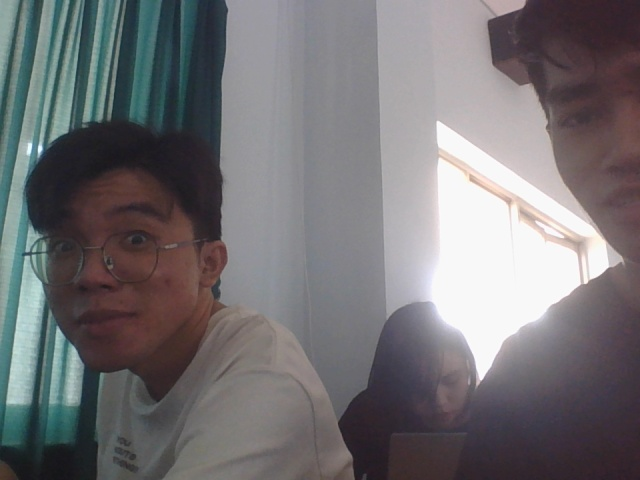real: (30, 106, 226, 384)
